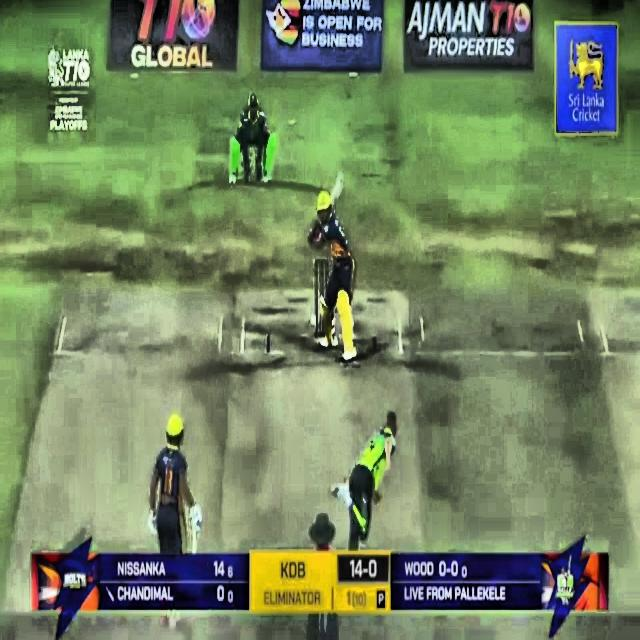Left-stump: (314, 263, 318, 338)
Middle-stump: (321, 312, 324, 339)
